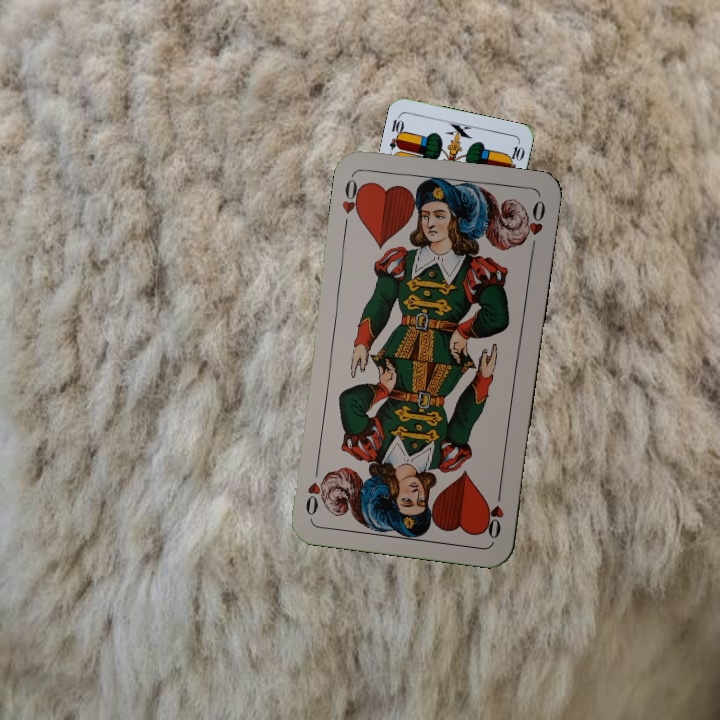E10: (385, 111, 407, 152)
HO: (337, 171, 367, 222), (481, 483, 507, 541)
